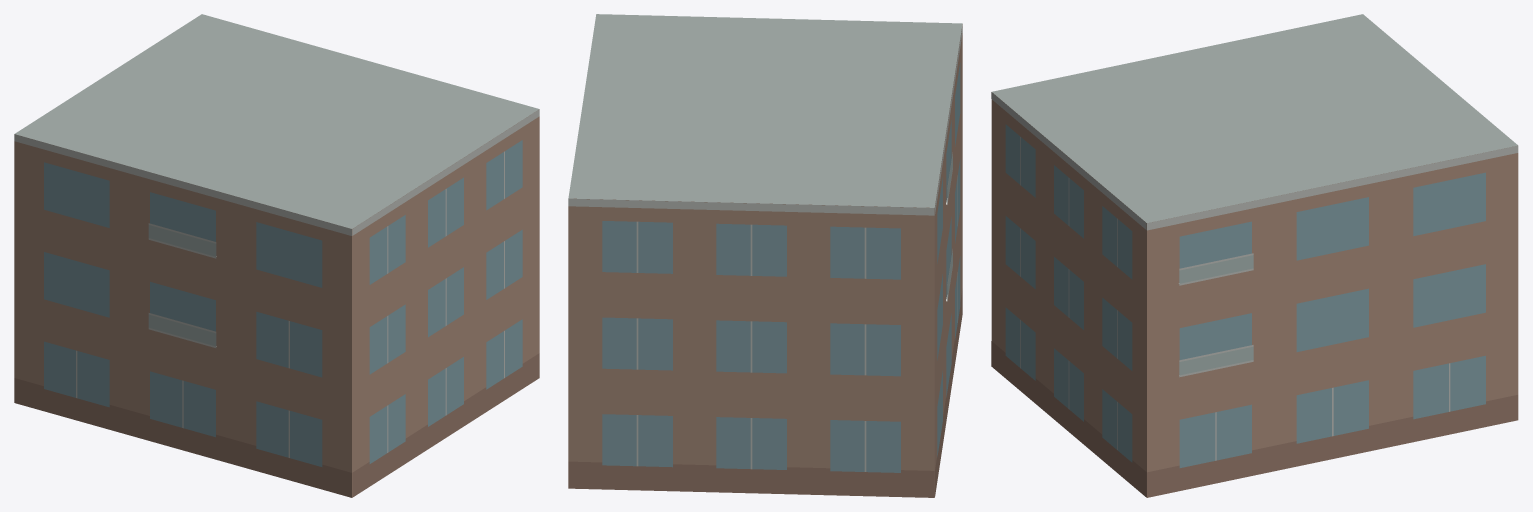
Rendered from survey-upis-32704067.glb.
3 views of the same model, side by side, from view 1: azimuth 30°, elevation 25°; view 2: azimuth 150°, elevation 25°; view 3: azimuth 270°, elevation 25° (orthographic). The views are drawn at different scales.
Parts seen in each view (by area): view 1: survey-upis-32704067.tmp; view 2: survey-upis-32704067.tmp; view 3: survey-upis-32704067.tmp.
Part boxes in pixels (box(x1,y1,x2,y2)): survey-upis-32704067.tmp: box(14, 14, 539, 497); survey-upis-32704067.tmp: box(568, 14, 962, 497); survey-upis-32704067.tmp: box(991, 14, 1518, 497).
Bounding box in the file's own units: 14.95 × 9.15 × 15.91.
